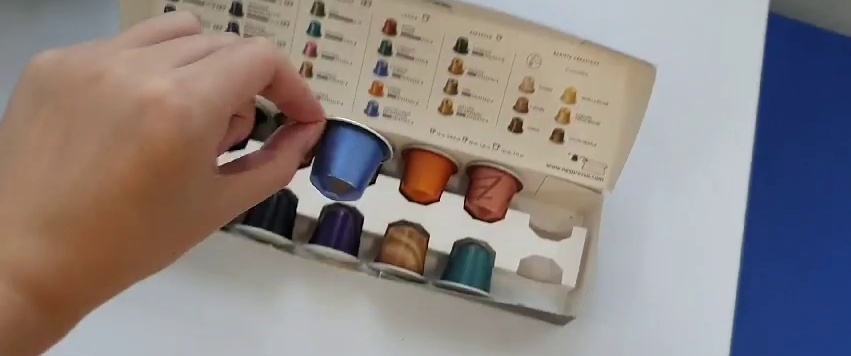capsule_7: (307, 114, 397, 202)
